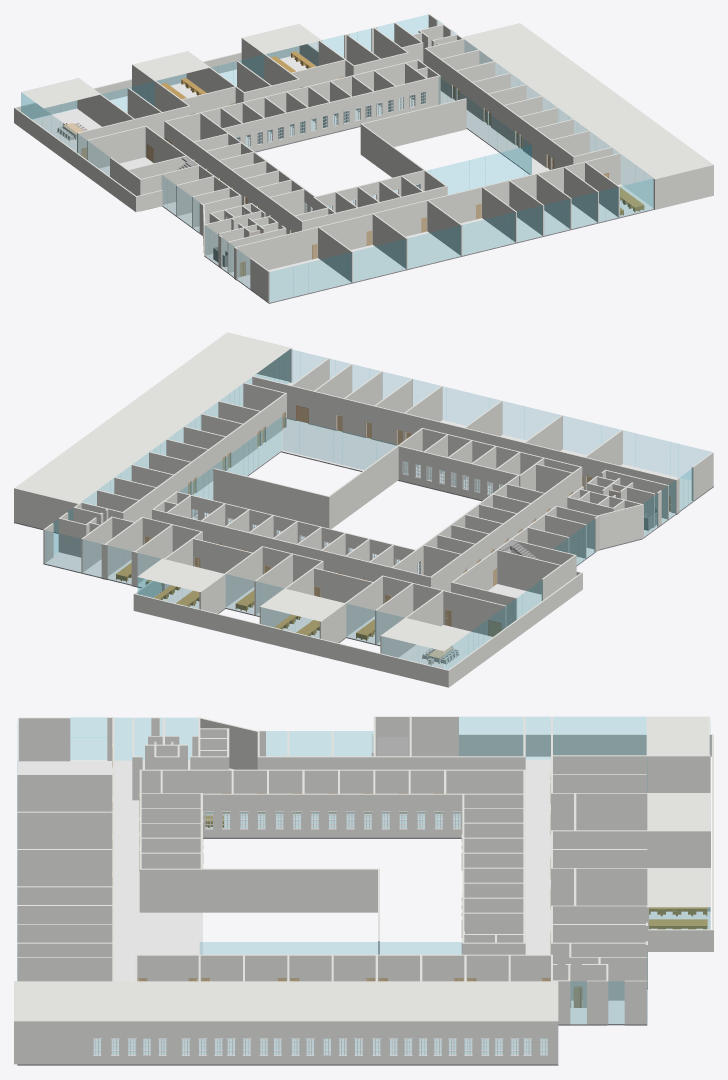
File: 3楼桌椅.gltf
3 views of the same model, one above another, from view 1: azimuth 30°, elevation 25°; view 2: azimuth 150°, elevation 25°; view 3: azimuth 270°, elevation 25° (orthographic). The views are drawn at different scales.
Visible parts, largest first — view 1: 常规 140 - 20+120 [639489] (×2), 常规 [643752], 常规 - 200mm [406510], 常规 - 200mm [405003], 常规 - 200mm [390235], 常规 - 200mm [396545], 常规 - 200mm [392540], 常规 - 200mm [393992], 常规 - 200mm 3 [642145], 常规 - 200mm 3 [642364], 常规 - 200mm [392927], 常规 - 200mm [643322] (+50 smaller); view 2: 常规 [643752], 常规 140 - 20+120 [639489] (×2), 常规 - 200mm [406510], 常规 - 200mm 3 [642364], 常规 - 200mm [390235], 常规 - 200mm [396545], 常规 - 200mm [392540], 常规 - 200mm [393992], 常规 - 200mm [392776], 常规 - 200mm [392927], 常规 - 200mm [394713], 常规 - 200mm [405003] (+51 smaller); view 3: 常规 140 - 20+120 [639489] (×2), 常规 [643752], 常规 - 200mm [644836], 常规 - 200mm [390235], 常规 - 200mm [392927], 常规 - 200mm [396860], 常规 - 200mm [393992], 常规 - 200mm [382158], 常规 - 200mm 3 [642145], 常规 - 200mm [395307], 常规 - 200mm [422749], 常规 - 200mm [407274] (+41 smaller).
Part boxes in pixels (<box>): 常规 140 - 20+120 [639489] (×2): <box>33,56,654,303</box>; 常规 [643752]: <box>463,24,711,178</box>; 常规 - 200mm [406510]: <box>234,153,620,277</box>; 常规 - 200mm [405003]: <box>223,75,440,151</box>; 常规 - 200mm [390235]: <box>424,48,574,169</box>; 常规 - 200mm [396545]: <box>166,59,417,141</box>; 常规 - 200mm [392540]: <box>360,98,466,154</box>; 常规 - 200mm [393992]: <box>164,121,301,234</box>; 常规 - 200mm 3 [642145]: <box>14,107,135,211</box>; 常规 - 200mm 3 [642364]: <box>15,46,299,119</box>; 常规 - 200mm [392927]: <box>361,124,447,195</box>; 常规 - 200mm [643322]: <box>655,164,713,209</box>; 常规 [643752]: <box>16,333,289,503</box>; 常规 140 - 20+120 [639489] (×2): <box>14,374,713,669</box>; 常规 - 200mm [406510]: <box>252,376,677,513</box>; 常规 - 200mm 3 [642364]: <box>133,593,447,687</box>; 常规 - 200mm [390235]: <box>122,393,286,521</box>; 常规 - 200mm [396545]: <box>153,509,429,586</box>; 常规 - 200mm [392540]: <box>213,468,329,528</box>; 常规 - 200mm [393992]: <box>429,467,581,591</box>; 常规 - 200mm [392776]: <box>398,445,521,500</box>; 常规 - 200mm [392927]: <box>329,428,422,528</box>; 常规 - 200mm [394713]: <box>382,575,506,635</box>; 常规 - 200mm [405003]: <box>176,491,415,565</box>; 常规 140 - 20+120 [639489] (×2): <box>17,759,710,1065</box>; 常规 [643752]: <box>16,981,555,1020</box>; 常规 - 200mm [644836]: <box>16,1020,555,1064</box>; 常规 - 200mm [390235]: <box>135,954,552,981</box>; 常规 - 200mm [392927]: <box>139,868,377,912</box>; 常规 - 200mm [396860]: <box>203,793,523,837</box>; 常规 - 200mm [393992]: <box>141,769,525,813</box>; 常规 - 200mm [382158]: <box>553,755,710,792</box>; 常规 - 200mm 3 [642145]: <box>459,734,713,756</box>; 常规 - 200mm [395307]: <box>553,830,710,868</box>; 常规 - 200mm [422749]: <box>259,756,523,769</box>; 常规 - 200mm [407274]: <box>17,849,112,886</box>.
Bounding box in the file's own units: 69.31 × 4.64 × 66.38.
17 materials, 1 textured.
